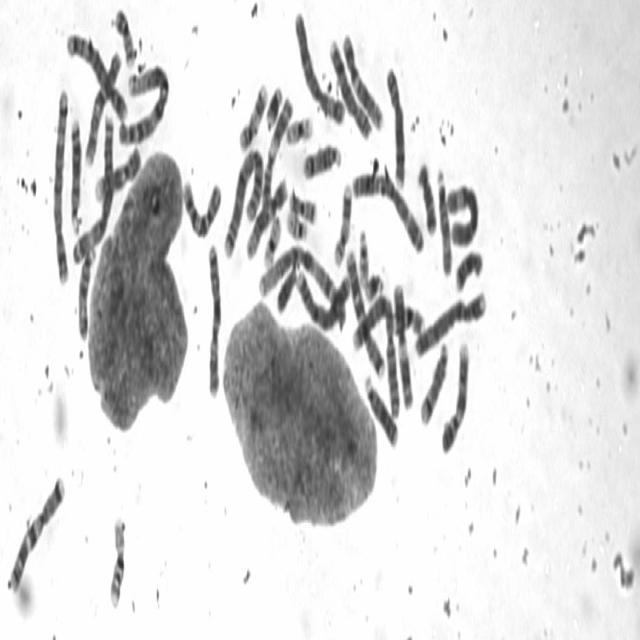A1: (258, 235, 349, 337), (116, 59, 170, 150)
A2: (352, 290, 402, 418), (221, 140, 265, 262)
A3: (71, 109, 116, 264), (350, 166, 425, 258)
B4: (413, 284, 488, 362), (294, 258, 349, 333)
B5: (64, 25, 128, 123), (51, 83, 70, 288)
C10: (83, 45, 124, 169), (180, 170, 223, 242)
C11: (260, 90, 294, 217), (391, 275, 414, 412)
C12: (340, 24, 385, 134), (243, 171, 289, 262)
C6: (292, 3, 346, 127), (445, 175, 480, 248)
C7: (6, 467, 67, 596), (344, 242, 386, 380)
C8: (327, 29, 372, 142), (383, 58, 407, 189)
C9: (438, 336, 471, 456), (92, 140, 144, 204)
D13: (363, 366, 399, 449), (68, 112, 83, 236)
D14: (417, 335, 450, 430), (300, 135, 342, 182)
D15: (75, 240, 96, 344), (435, 164, 453, 278)
E16: (107, 509, 127, 613), (390, 293, 425, 337)
E17: (237, 76, 269, 154), (331, 175, 353, 269)
E18: (415, 155, 438, 238), (453, 243, 486, 293)
F19: (261, 208, 282, 268), (283, 110, 314, 148)
F20: (113, 2, 135, 68), (287, 183, 318, 226)
G21: (263, 76, 283, 133), (363, 268, 384, 303)
G22: (356, 223, 370, 289), (284, 204, 308, 241)
X: (204, 232, 223, 402)
Y: (274, 261, 298, 314)
